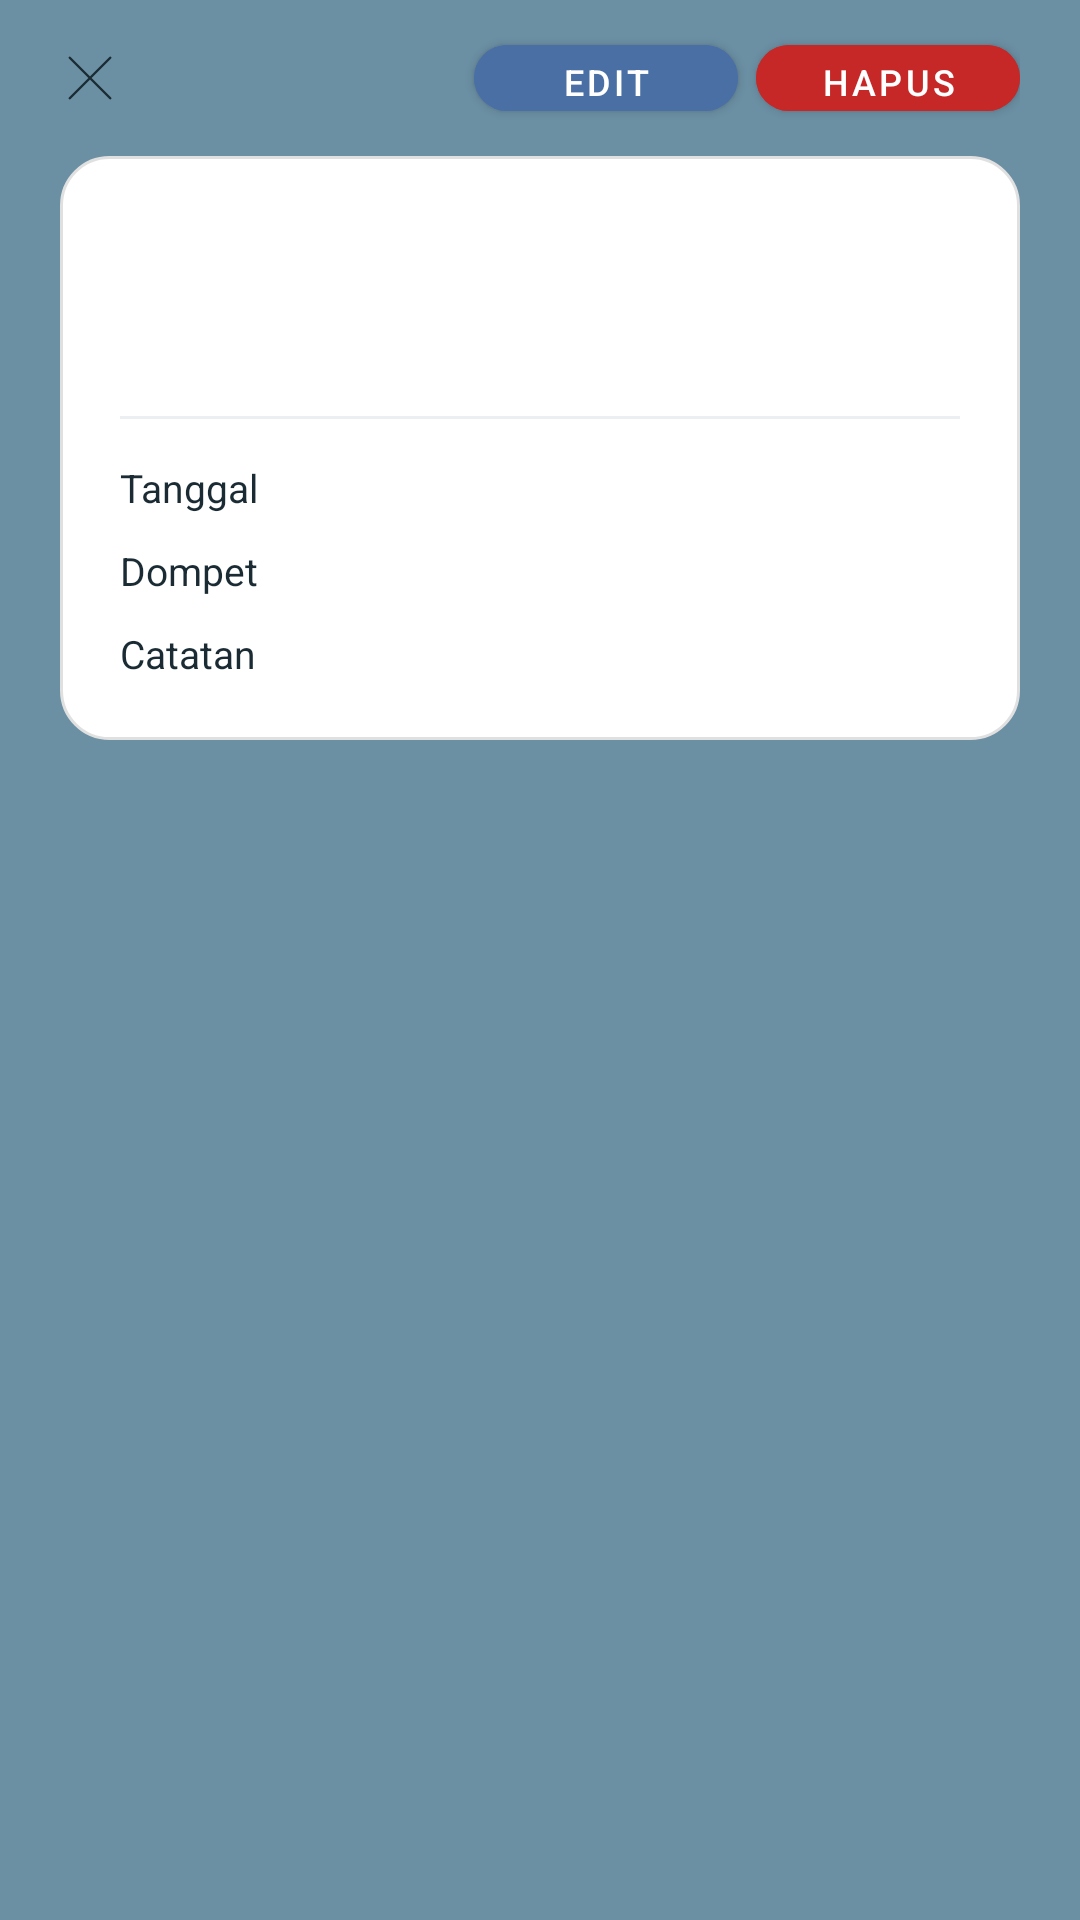

Screen size 1080px x 1920px. Icon name, then its box in pixels as bbox(x1, y1, x2, y2):
close: bbox(68, 56, 112, 100)
